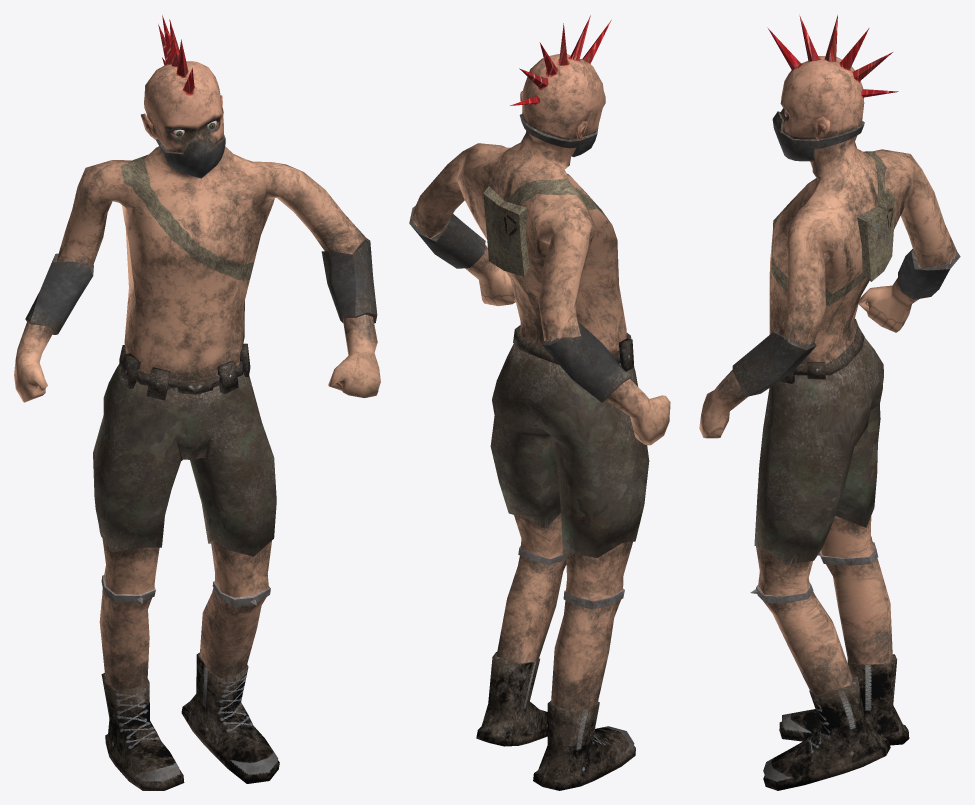
File: Anim_ataque_f1_npc2.0010.obj
3 renders of one model, left to right at view 1: azimuth 30°, elevation 25°; view 2: azimuth 150°, elevation 25°; view 3: azimuth 270°, elevation 25°, orthographic.
Parts seen in each view (by area): view 1: polySurface1; view 2: polySurface1; view 3: polySurface1.
Boxes of the visible parts, x1,y1,x2,y2 form: polySurface1: (14,15,380,790); polySurface1: (409,15,670,790); polySurface1: (699,14,960,790).
Size of the model in its own units: 4.27 by 10.15 by 3.24.
